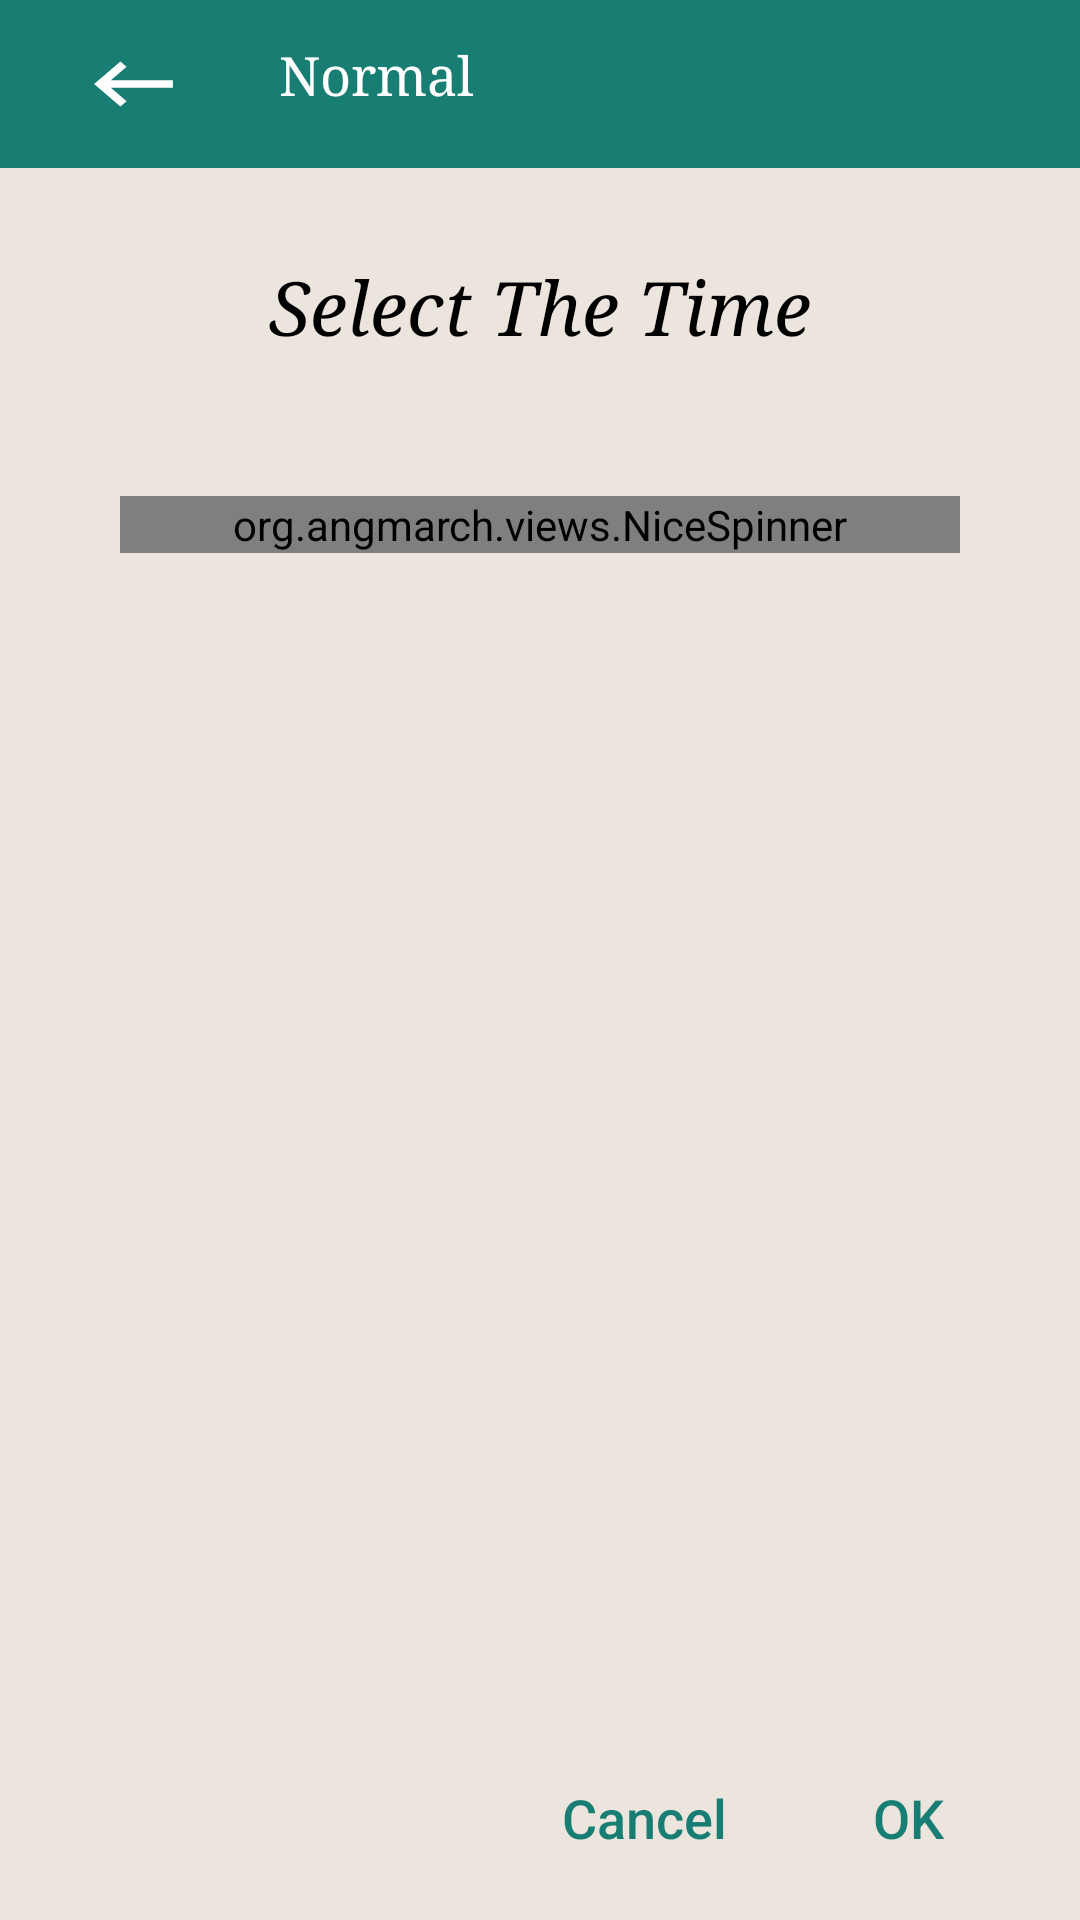

Screen size 1080×1920. Icon name, then its center in pixels as (x=x, y=y):
back arrow: (x=133, y=84)
